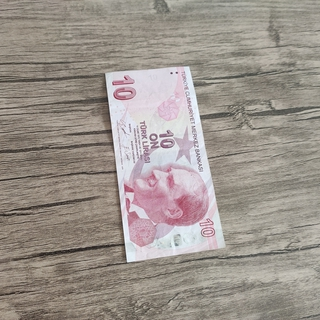10TLFront: (104, 64, 227, 264)
